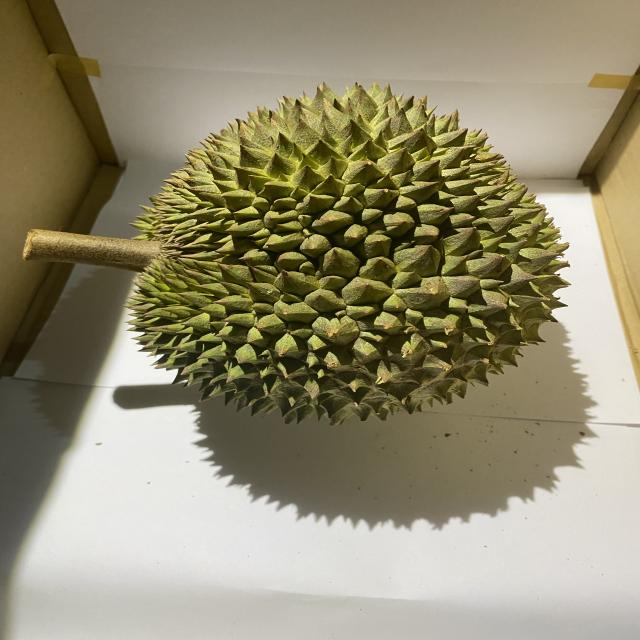immature: (130, 79, 576, 428)
